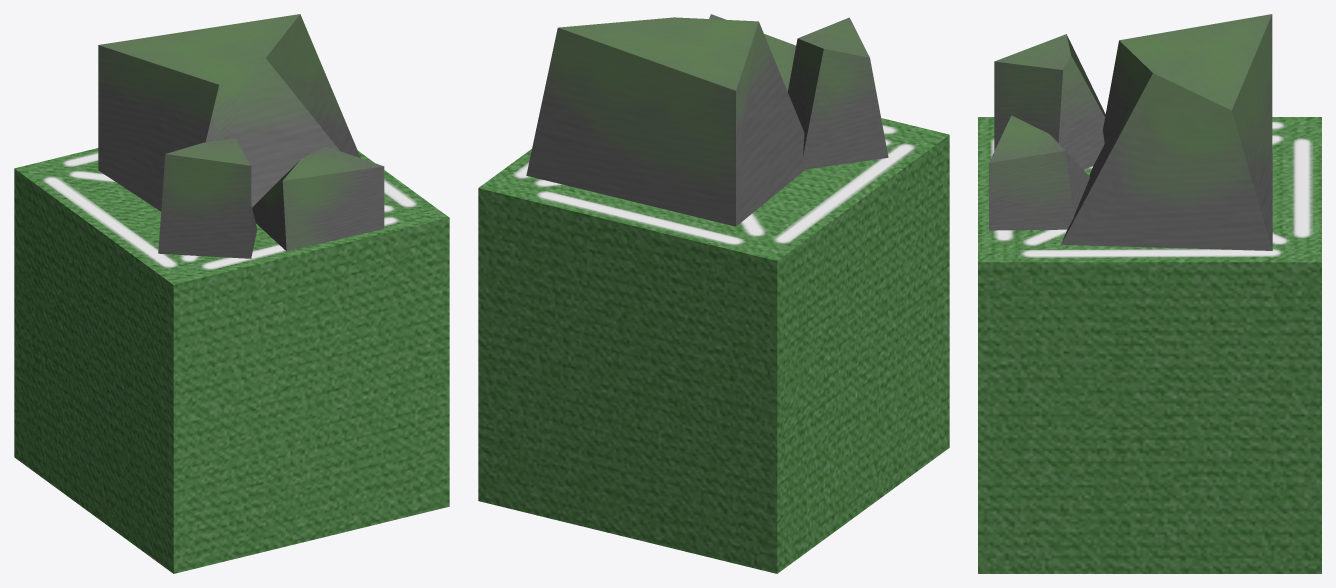
Rendered from skaly.fbx.
3 renders of one model, left to right at view 1: azimuth 30°, elevation 25°; view 2: azimuth 150°, elevation 25°; view 3: azimuth 270°, elevation 25°, orthographic. The views are drawn at different scales.
Visible parts, largest first — view 1: Box001.025, Box002.007, Box004.006, Box003.007; view 2: Box001.025, Box002.007, Box004.006, Box003.007; view 3: Box001.025, Box002.007, Box004.006, Box003.007.
Part boxes in pixels (bbox=[...]): Box001.025: bbox=[14, 148, 449, 573]; Box002.007: bbox=[98, 14, 360, 211]; Box004.006: bbox=[158, 138, 257, 258]; Box003.007: bbox=[252, 146, 384, 251]; Box001.025: bbox=[478, 118, 949, 573]; Box002.007: bbox=[526, 17, 805, 226]; Box004.006: bbox=[788, 17, 888, 169]; Box003.007: bbox=[709, 14, 795, 91]; Box001.025: bbox=[978, 117, 1321, 573]; Box002.007: bbox=[1061, 14, 1272, 250]; Box004.006: bbox=[994, 34, 1105, 169]; Box003.007: bbox=[989, 115, 1089, 230].
Bounding box in the file's own units: 25.4 × 36.42 × 25.4.
